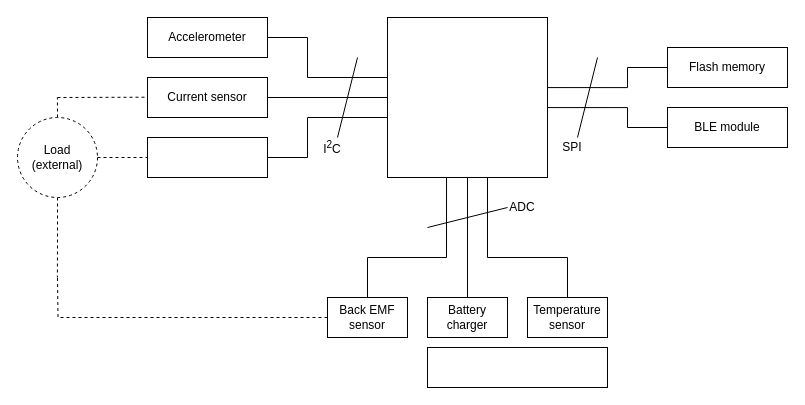
Some shapes in this 805 by 405 pixel diagram are drawn without their labels. The shapes that lost their labels are listed below. From the top down, each one's centre as x and y in pixels, then its label:
At pixel 467 97: "Processor".
At pixel 207 157: "Load driver".
At pixel 517 367: "Battery".
